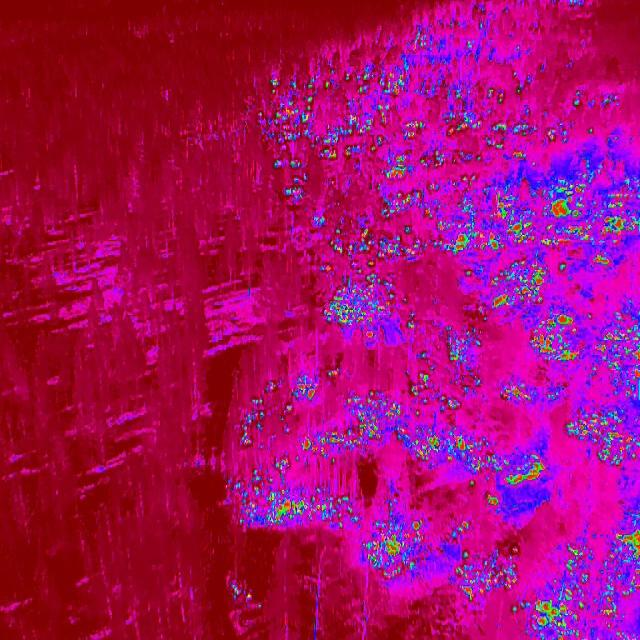fire: (255, 61, 516, 204), (242, 373, 472, 458), (449, 166, 640, 265), (222, 458, 362, 536), (512, 534, 591, 638), (313, 273, 415, 345), (458, 259, 554, 325), (312, 214, 414, 274), (452, 430, 512, 516), (363, 516, 430, 586), (565, 402, 636, 468), (599, 526, 640, 640), (596, 305, 640, 403), (452, 544, 522, 604), (526, 310, 584, 370), (497, 376, 579, 412), (413, 202, 455, 256), (504, 454, 552, 494), (229, 579, 258, 606), (446, 339, 462, 365)
